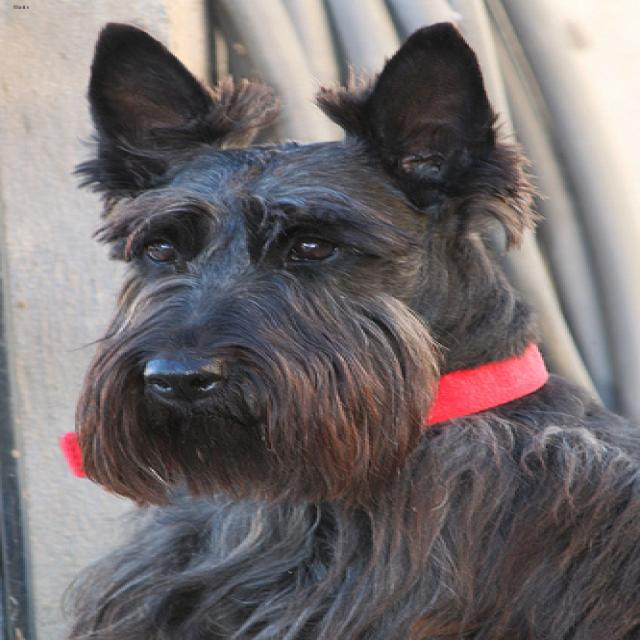dog-scottish_terrier: (48, 10, 636, 637)
